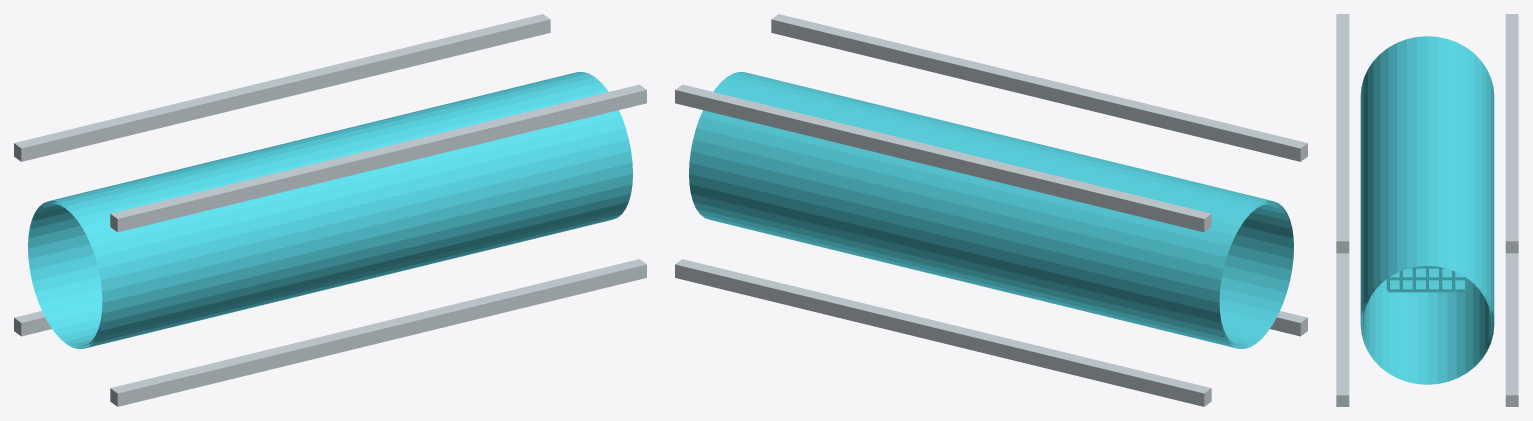
Rendered from CASCADE-RECOVERY-MATRIX.glb.
3 renders of one model, left to right at view 1: azimuth 30°, elevation 25°; view 2: azimuth 150°, elevation 25°; view 3: azimuth 270°, elevation 25°, orthographic. The views are drawn at different scales.
Visible parts, largest first — view 1: body, frame; view 2: body, frame; view 3: body, frame, wick.
Boxes of the visible parts, x1,y1,x2,y2 form: body: (28, 72, 632, 348); frame: (14, 14, 646, 406); body: (689, 72, 1293, 348); frame: (675, 14, 1307, 406); body: (1360, 36, 1494, 384); frame: (1336, 14, 1518, 406); wick: (1386, 266, 1468, 292).
Size of what is drawn, in the model's own units: 0.33 by 0.112 by 0.112.
